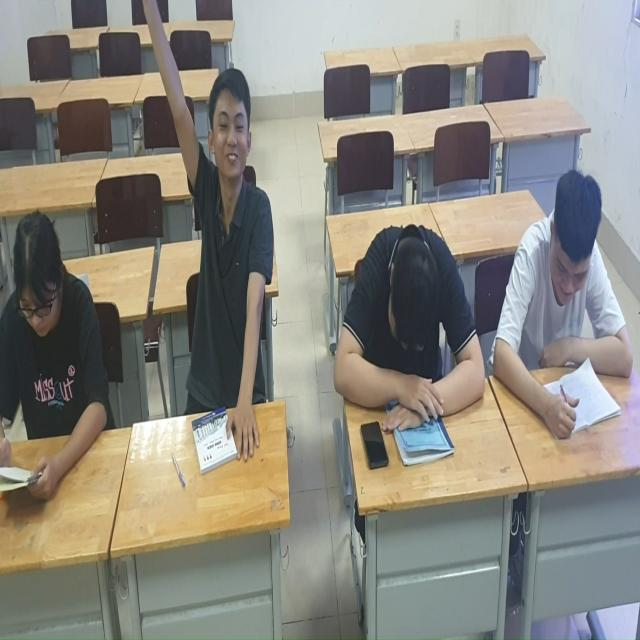raise_hand: (141, 1, 281, 479)
read: (490, 157, 640, 462), (1, 204, 128, 502)
sleep: (330, 210, 487, 462)
